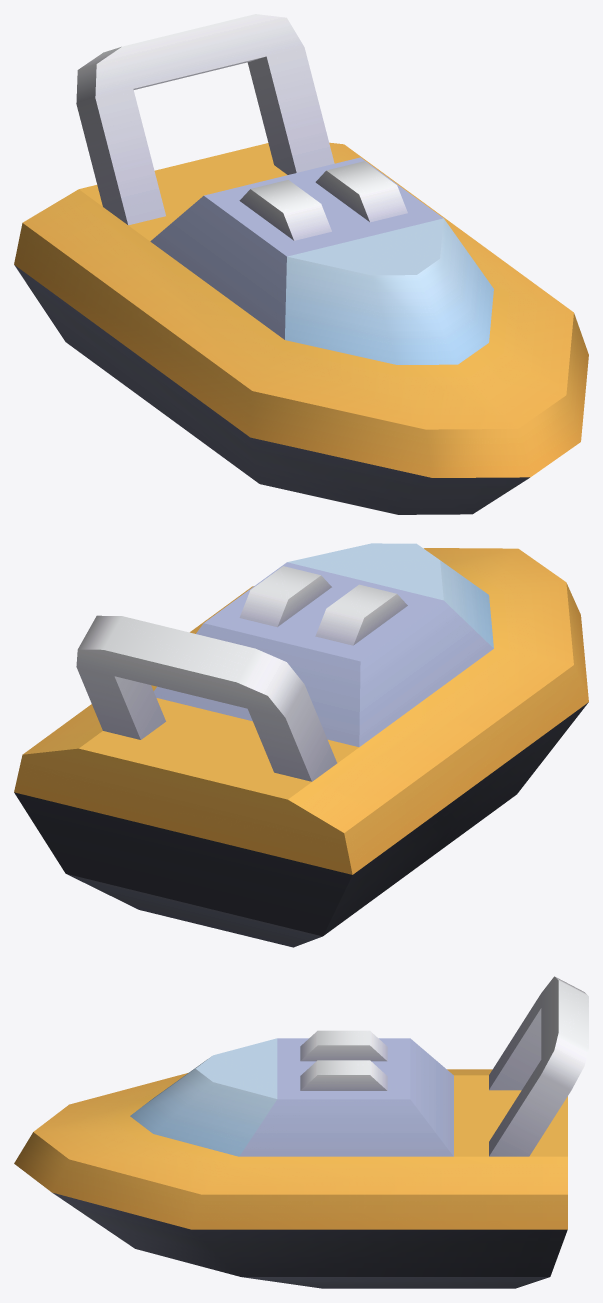
The model's file is boat-speed-b-transformed-transformed.glb.
The picture shows the model from 3 angles, top to bottom: view 1: azimuth 30°, elevation 25°; view 2: azimuth 150°, elevation 25°; view 3: azimuth 270°, elevation 25°; orthographic projection. The views are drawn at different scales.
Visible parts, largest first — view 1: boat-speed-b; view 2: boat-speed-b; view 3: boat-speed-b.
Part boxes in pixels (bbox=[...]): boat-speed-b: bbox=[14, 14, 588, 514]; boat-speed-b: bbox=[14, 543, 588, 947]; boat-speed-b: bbox=[14, 976, 588, 1288].
Bounding box in the file's own units: 1.78 × 1.59 × 3.29.
Materials: 1 (1 with a texture image).
